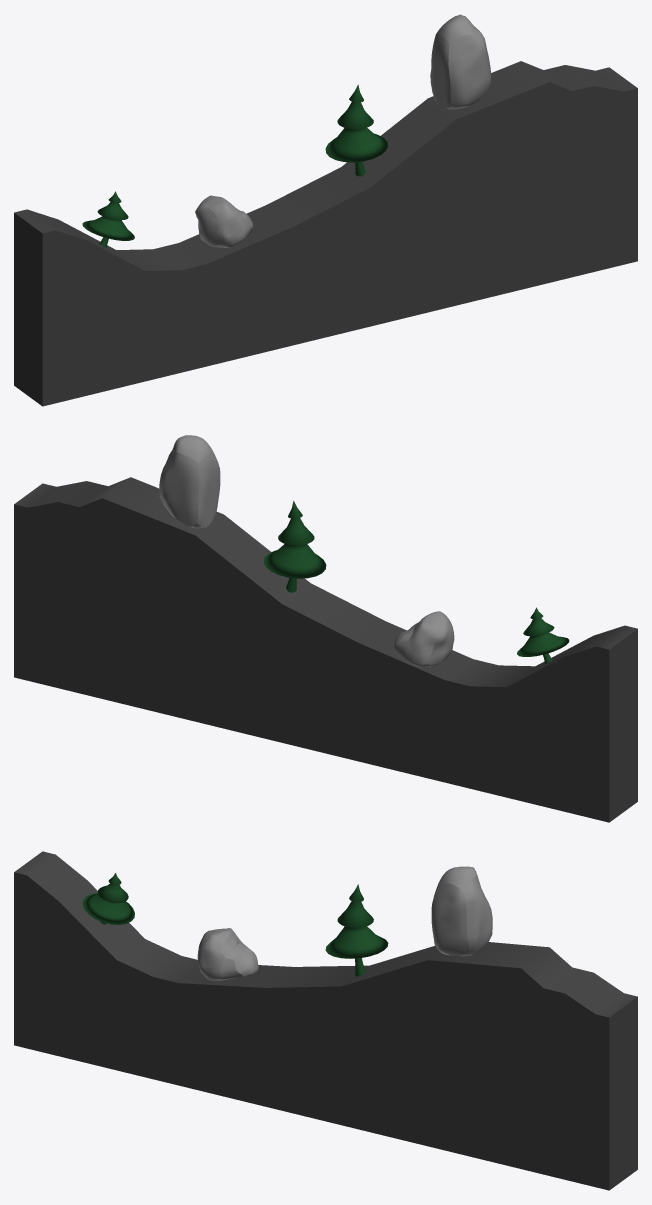
Rendered from Slope_L_!.fbx.
The picture shows the model from 3 angles, top to bottom: view 1: azimuth 30°, elevation 25°; view 2: azimuth 150°, elevation 25°; view 3: azimuth 330°, elevation 25°; orthographic projection.
Parts seen in each view (by area): view 1: polySurface5, polySurface2, polySurface1, polySurface3, polySurface4; view 2: polySurface5, polySurface2, polySurface1, polySurface3, polySurface4; view 3: polySurface5, polySurface2, polySurface3, polySurface1, polySurface4.
Part boxes in pixels (bbox=[...]): polySurface5: bbox=[14, 61, 637, 406]; polySurface2: bbox=[430, 14, 491, 109]; polySurface1: bbox=[325, 84, 388, 176]; polySurface3: bbox=[195, 195, 252, 247]; polySurface4: bbox=[82, 191, 134, 247]; polySurface5: bbox=[14, 477, 637, 822]; polySurface2: bbox=[159, 435, 220, 528]; polySurface1: bbox=[263, 500, 326, 592]; polySurface3: bbox=[393, 611, 454, 666]; polySurface4: bbox=[517, 607, 569, 663]; polySurface5: bbox=[14, 851, 637, 1190]; polySurface2: bbox=[431, 866, 492, 956]; polySurface3: bbox=[197, 928, 258, 980]; polySurface1: bbox=[325, 884, 388, 976]; polySurface4: bbox=[82, 873, 134, 924].
Size of the model in its own units: 36 by 15.68 by 3.31.
